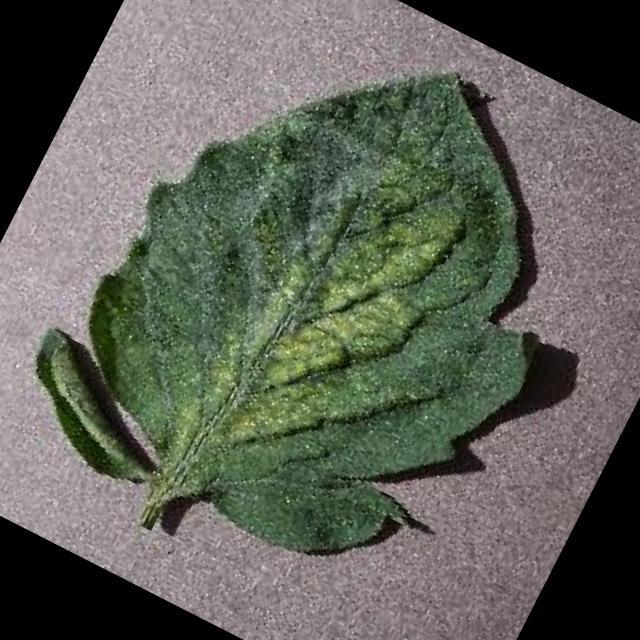Tomato spider mites leaf: (27, 0, 635, 617)
